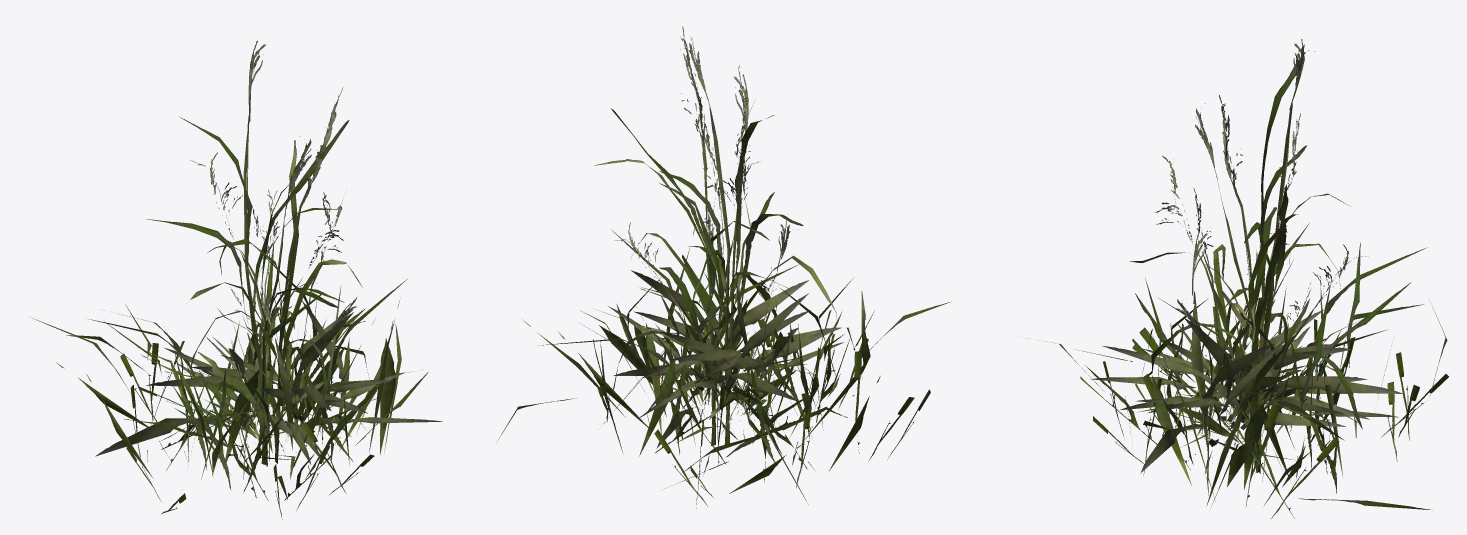
File: grass_medium_01.glb
3 views of the same model, side by side, from view 1: azimuth 30°, elevation 25°; view 2: azimuth 150°, elevation 25°; view 3: azimuth 270°, elevation 25° (orthographic). The views are drawn at different scales.
Parts seen in each view (by area): view 1: d_lod0, c_lod0, b_lod0, a_lod0; view 2: d_lod0, c_lod0, b_lod0, a_lod0; view 3: d_lod0, c_lod0, b_lod0, a_lod0.
Boxes of the visible parts, x1,y1,x2,y2 form: d_lod0: (32,241,428,519); c_lod0: (95,200,442,479); b_lod0: (146,40,349,466); a_lod0: (190,87,362,463); d_lod0: (497,224,951,508); c_lod0: (608,114,844,504); b_lod0: (607,37,803,444); a_lod0: (594,26,837,445); d_lod0: (1027,223,1448,518); c_lod0: (1090,188,1403,473); b_lod0: (1129,39,1368,465); a_lod0: (1148,95,1349,473).
Bounding box in the file's own units: 0.2593 × 0.3225 × 0.2934.
Materials: 1 (1 with a texture image).
